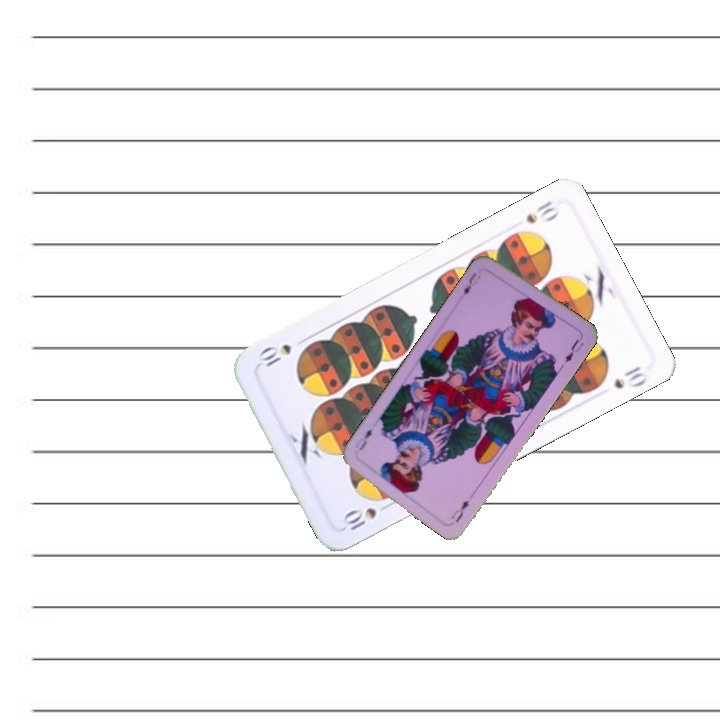EU: (447, 489, 477, 525), (458, 268, 480, 298)
S10: (337, 493, 395, 534), (522, 196, 562, 226)
